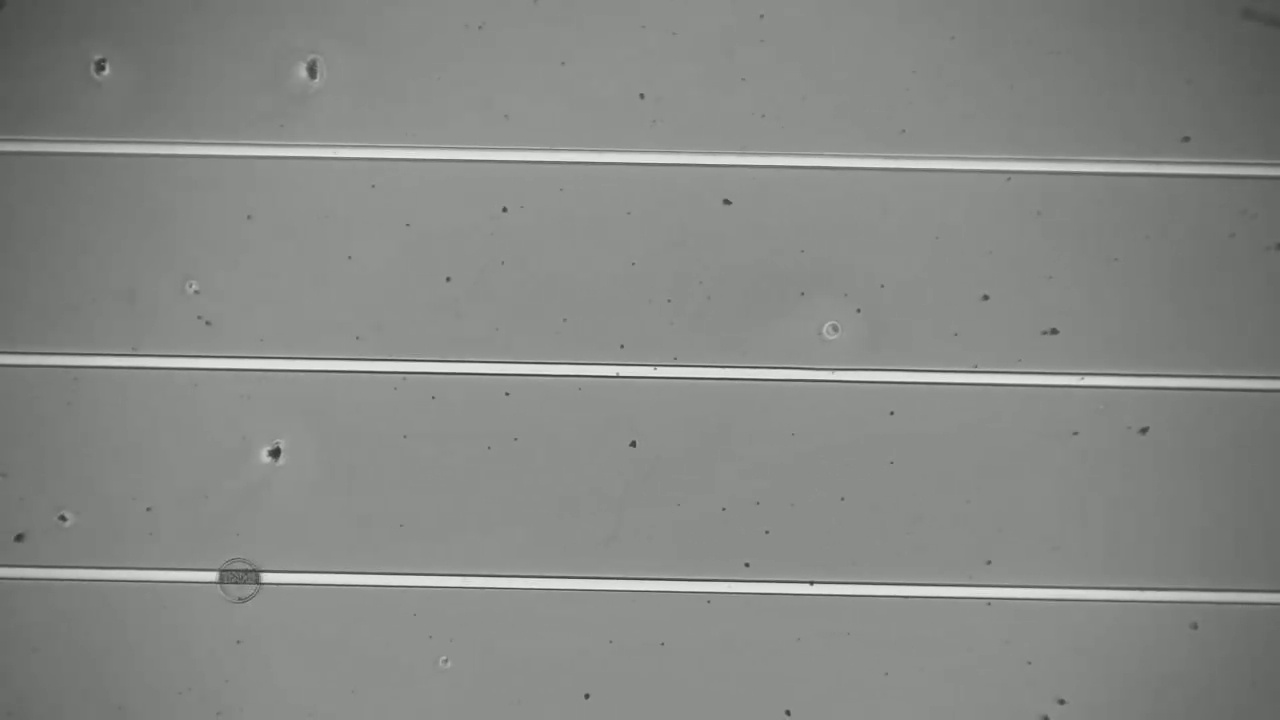gray_line: (203, 559, 275, 594)
